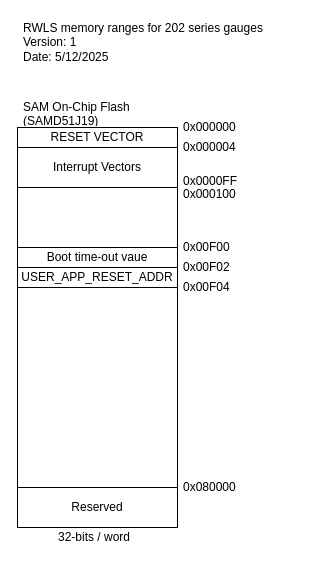
Image size: 315x564. Some labels were removed from this diagram. Each missing label, with the centre of its shape:
Bootloader Image: [97,217]
RWLS FW Application: [97,387]
